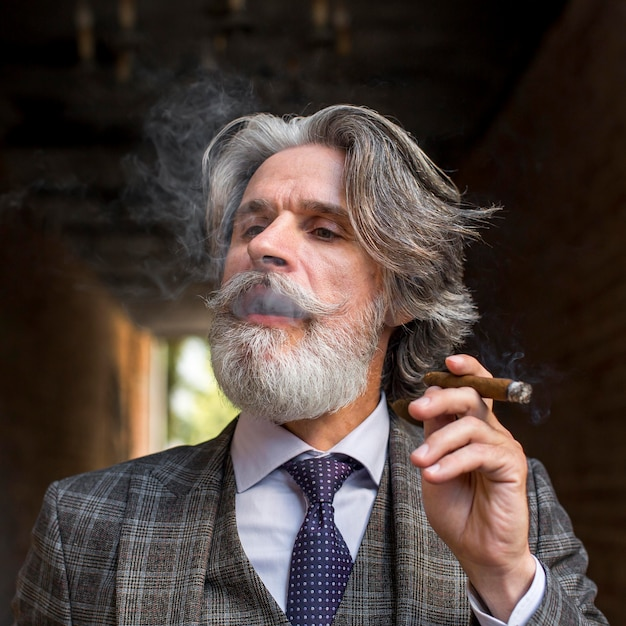cigarette: (419, 369, 534, 404)
